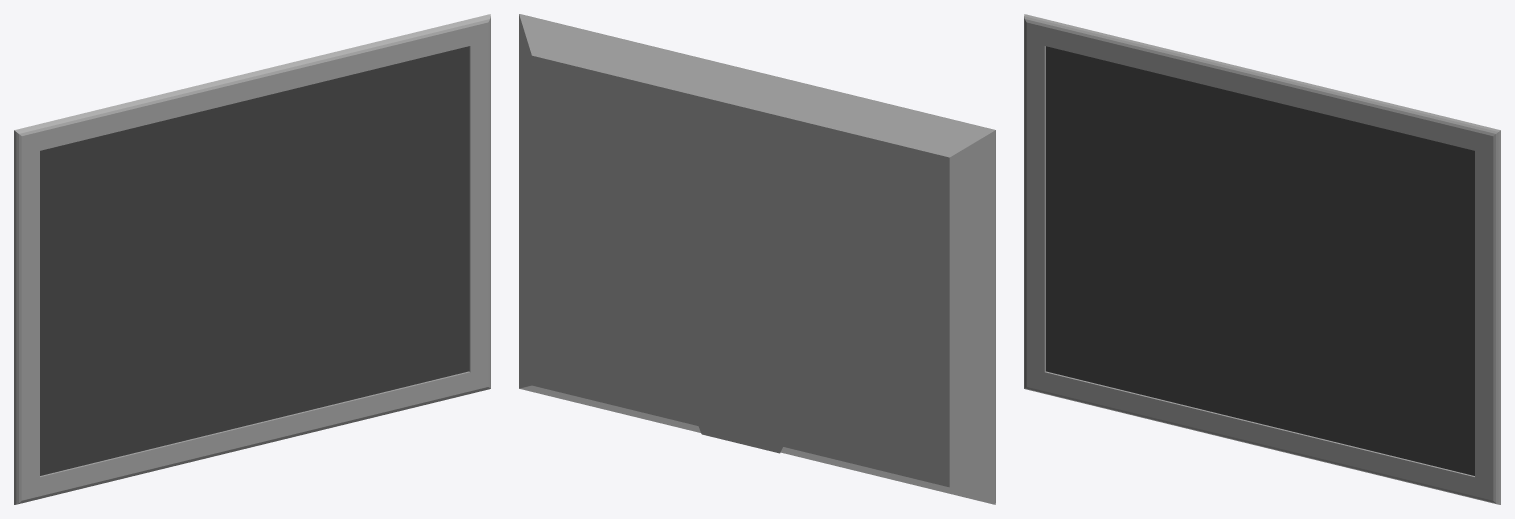
3 renders of one model, left to right at view 1: azimuth 30°, elevation 25°; view 2: azimuth 150°, elevation 25°; view 3: azimuth 330°, elevation 25°, orthographic.
Visible parts, largest first — view 1: tv; view 2: tv; view 3: tv.
Boxes of the visible parts, <box> form: tv: <box>14,14,490,504</box>; tv: <box>519,14,995,504</box>; tv: <box>1024,14,1500,504</box>.
Bounding box in the file's own units: 41.77 × 2.93 × 31.39.
2 materials, 1 textured.
